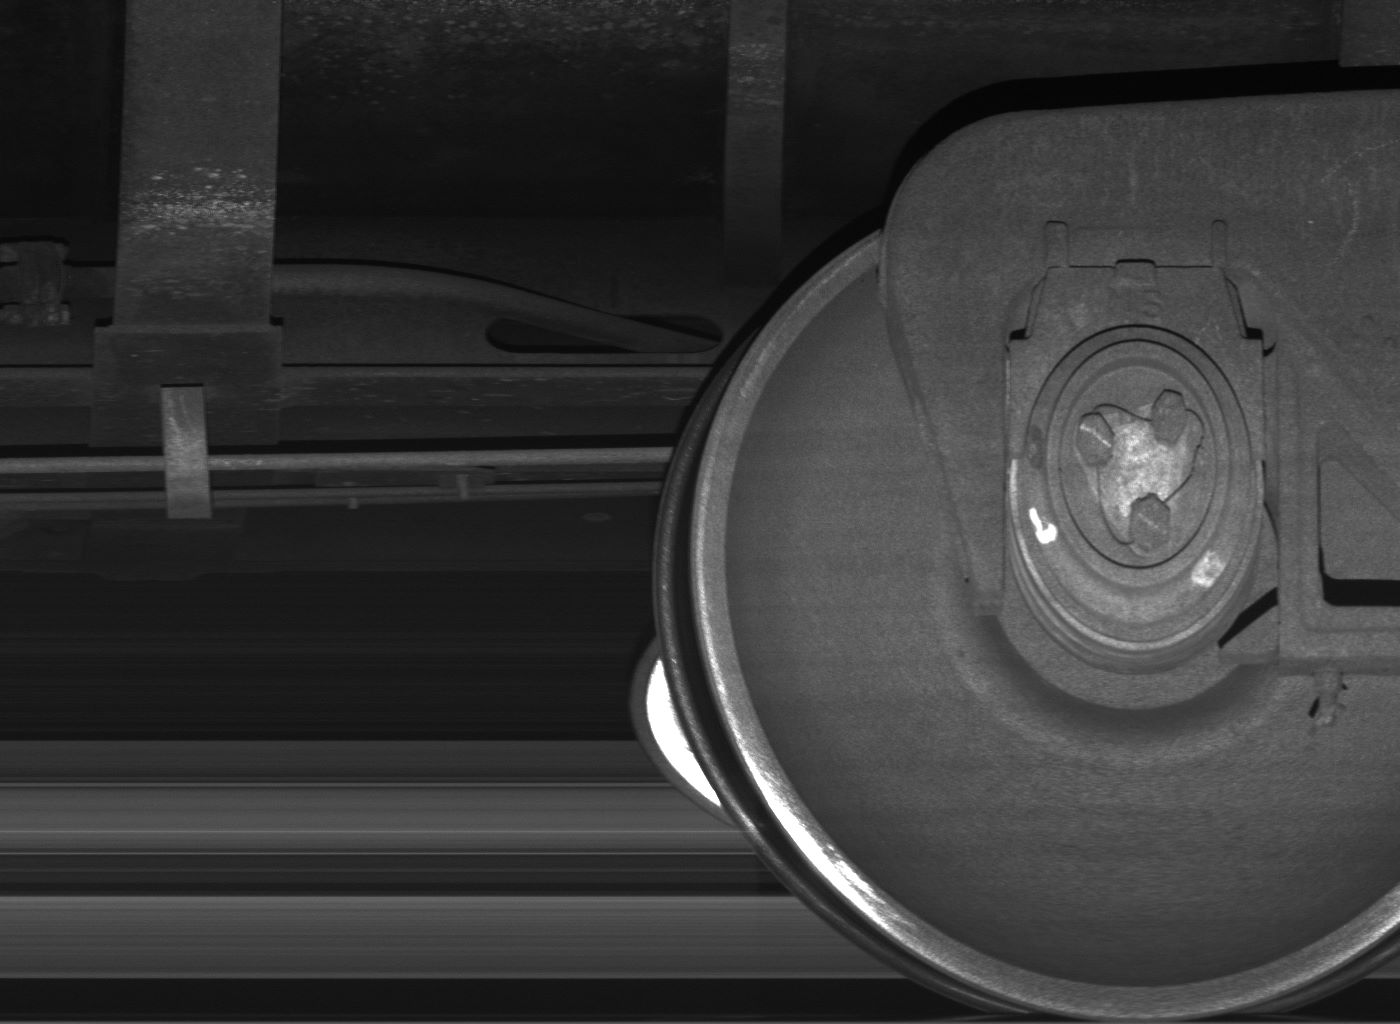normal: (159, 385, 212, 521)
